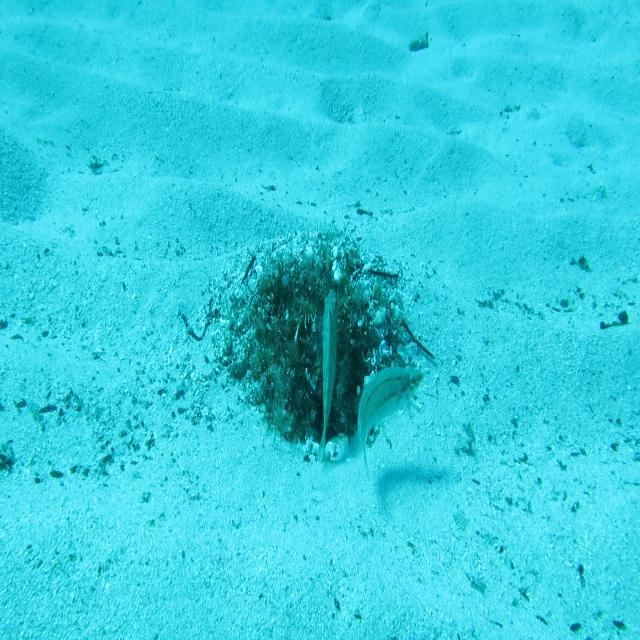FAN: (312, 282, 344, 468)
core_nest: (296, 277, 354, 316)
female: (354, 364, 424, 484)
nest: (206, 216, 430, 466)
vegetation: (404, 34, 430, 54)
